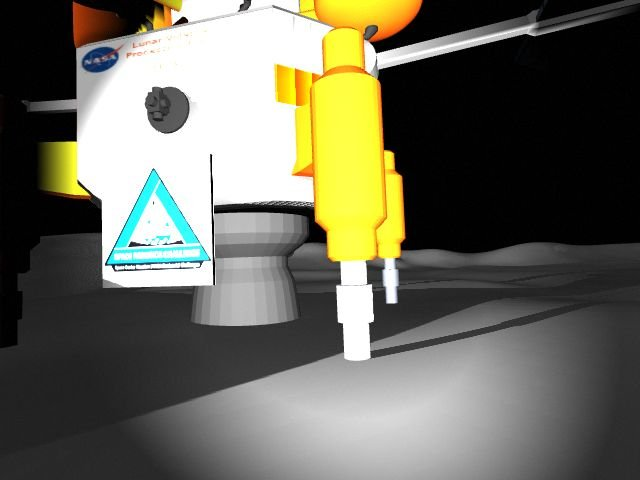basemarker: (105, 166, 211, 274)
